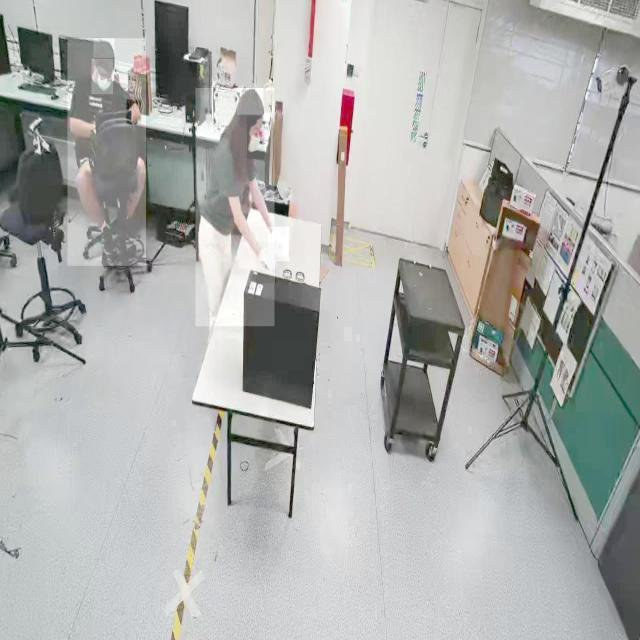face_mask: (92, 59, 114, 95), (247, 117, 265, 159)
hand_glove: (256, 242, 276, 284), (268, 227, 290, 262)
hand_noglove: (126, 100, 142, 126)
head_nohelmet: (237, 88, 264, 116), (93, 38, 115, 59)
person: (195, 88, 275, 327), (67, 38, 146, 267)
